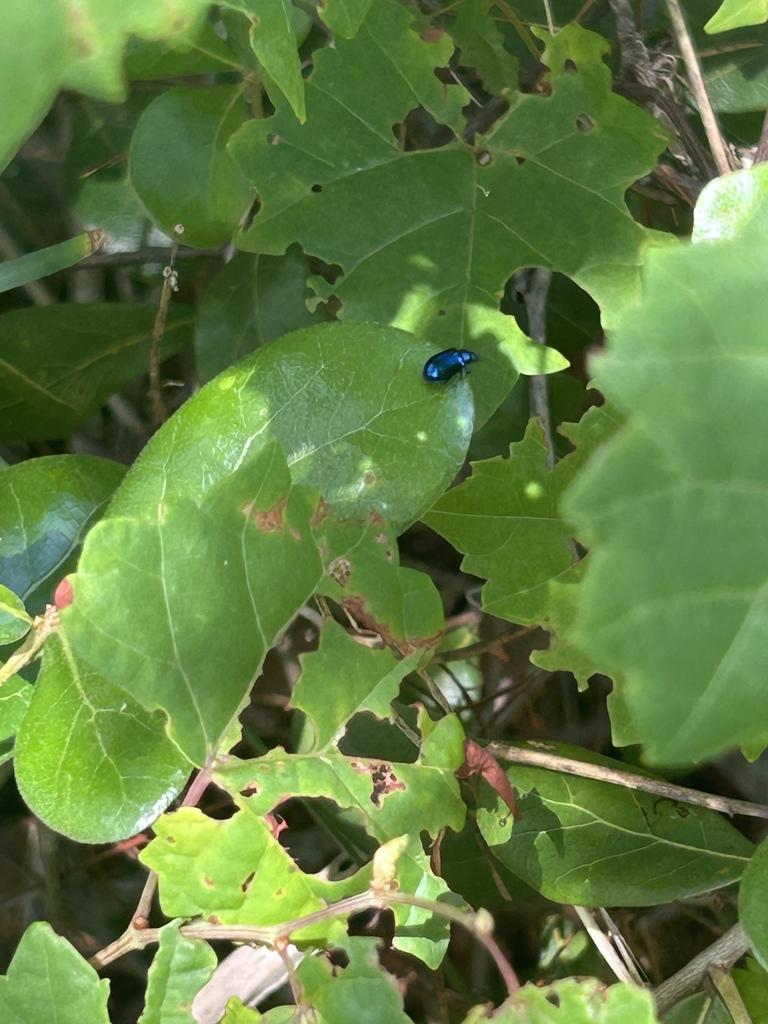flea_beetle: (403, 306, 496, 412)
